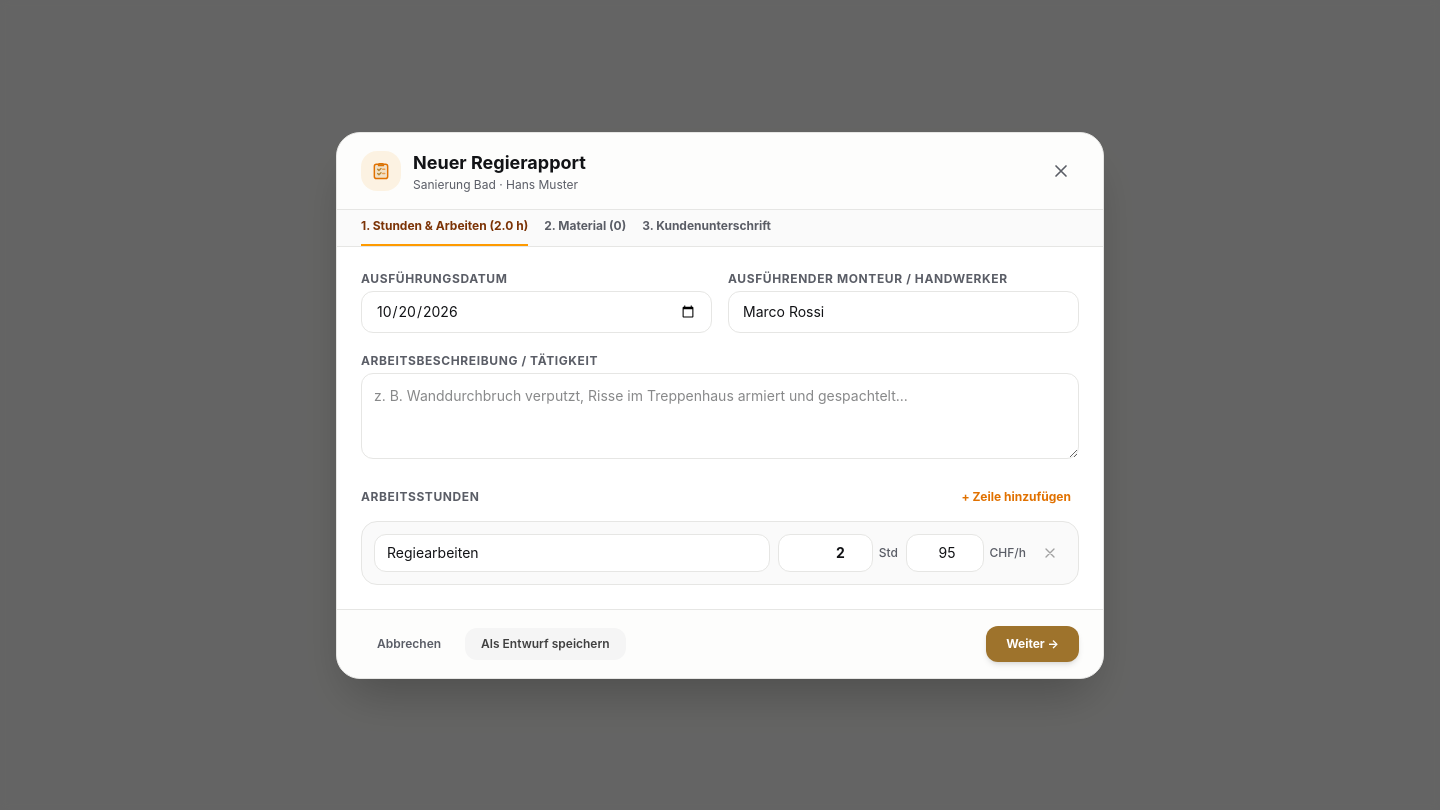
it: RapportCreateModal › allows adding material rows in step 2
Click the button "Weiter →" at [1033, 644], box left=986, top=626, right=1079, bottom=662
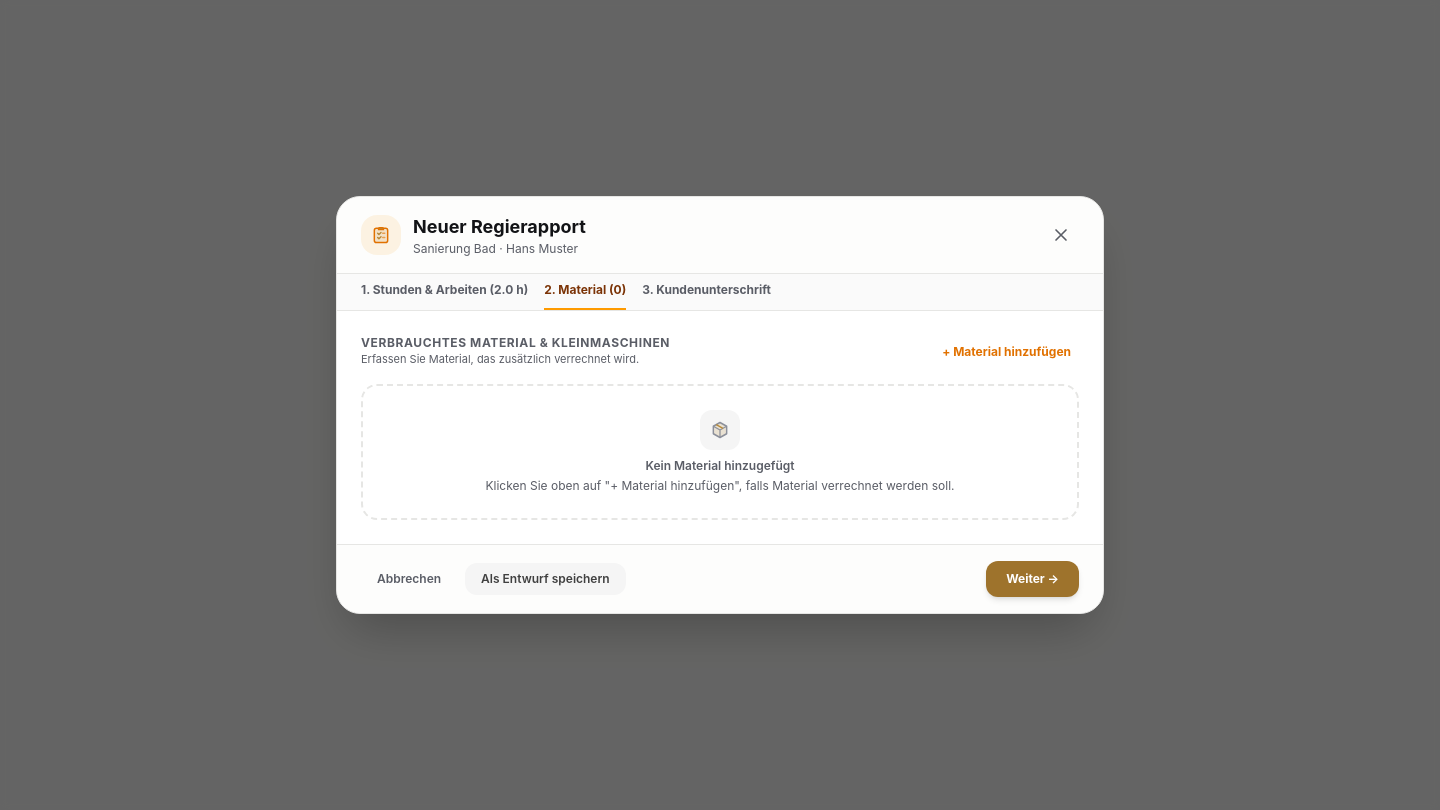
Note: Click Add Material
Click the button "+ Material hinzufügen" at [1007, 352], box left=934, top=340, right=1079, bottom=364
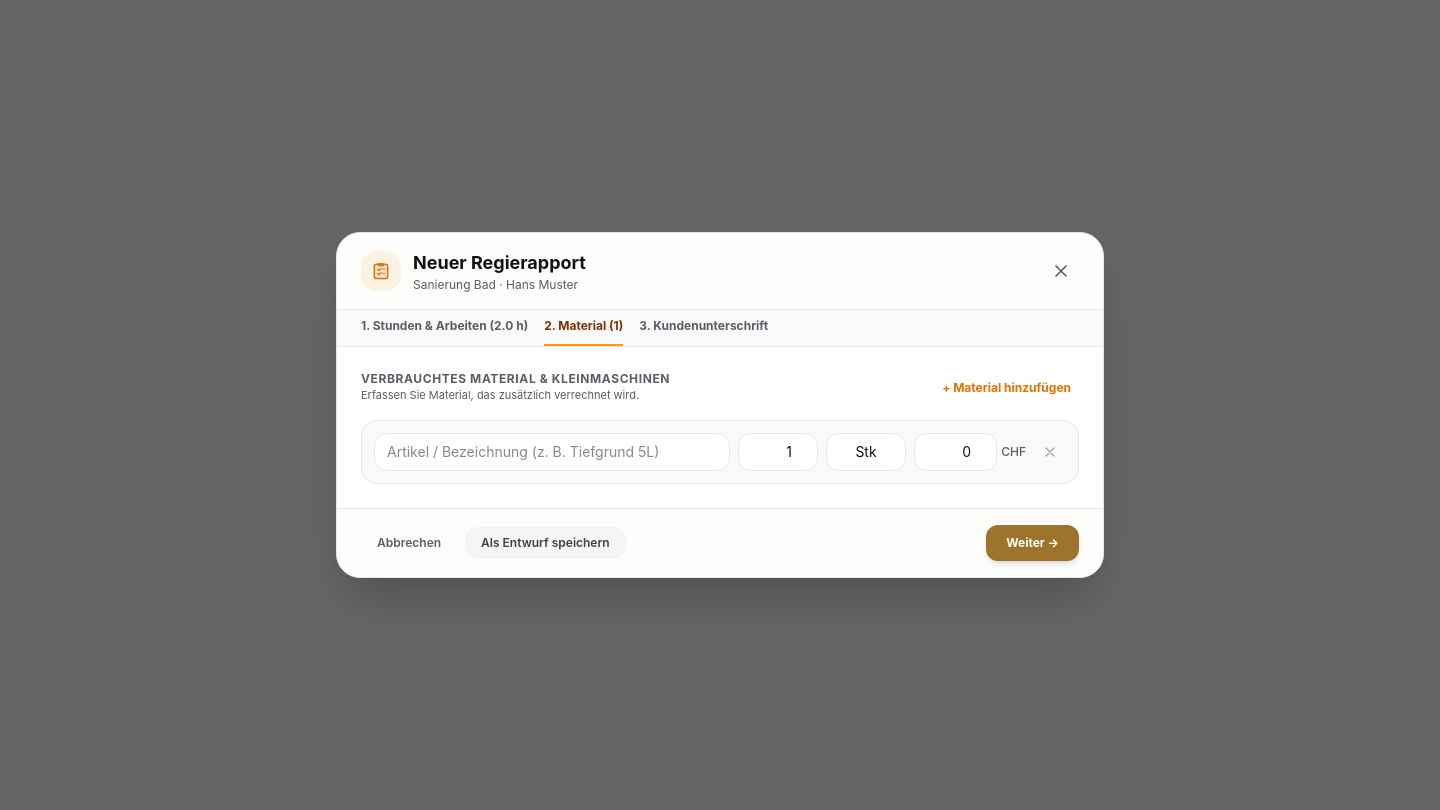
expect the field with placeholder "Artikel / Bezeichnung (z. B. Tiefgrund 5L)" is shown: met, box left=374, top=433, right=730, bottom=471
